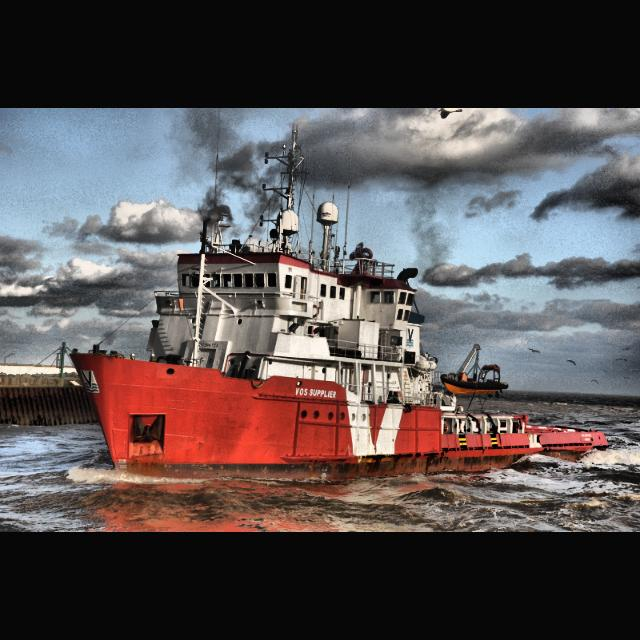anchor_handling_tug_supply: (67, 202, 611, 484)
